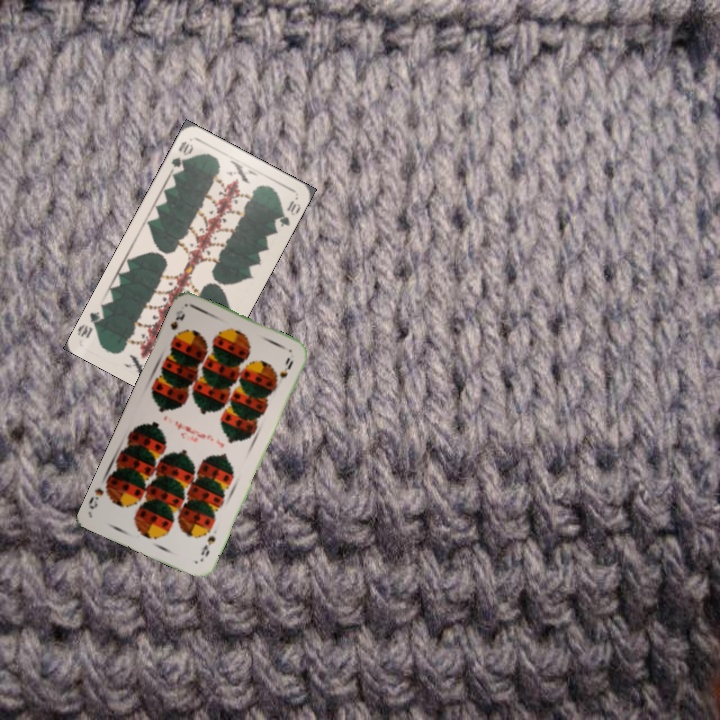G10: (167, 137, 196, 177)
S9: (166, 306, 188, 343), (197, 531, 218, 560)
